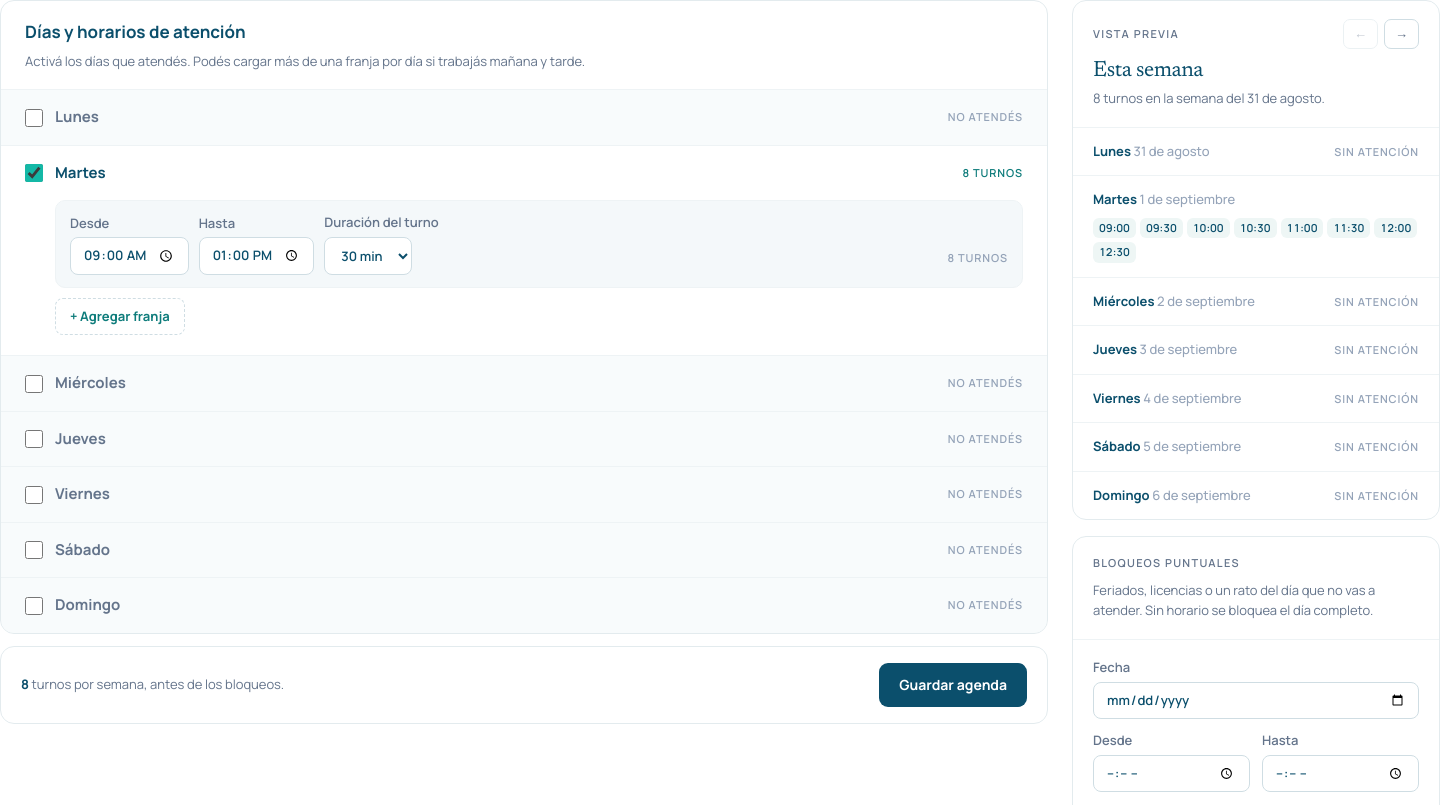
Scenario: WeeklyScheduleForm (ENG-53) › la vista previa refleja los cambios ANTES de guardar
The width and height of the screenshot is (1440, 805).
Expected: the checkbox labelled "Martes" is shown, [25,164,43,182]
Expected: the text "8 turnos en la semana del 31 de agosto." is shown, [1093,89,1325,107]
Se activa el lunes (agrega 09:00-13:00 de 30 min → 8 turnos más).
Click the checkbox labelled "Lunes" at point(34, 118), box [25,108,43,126]
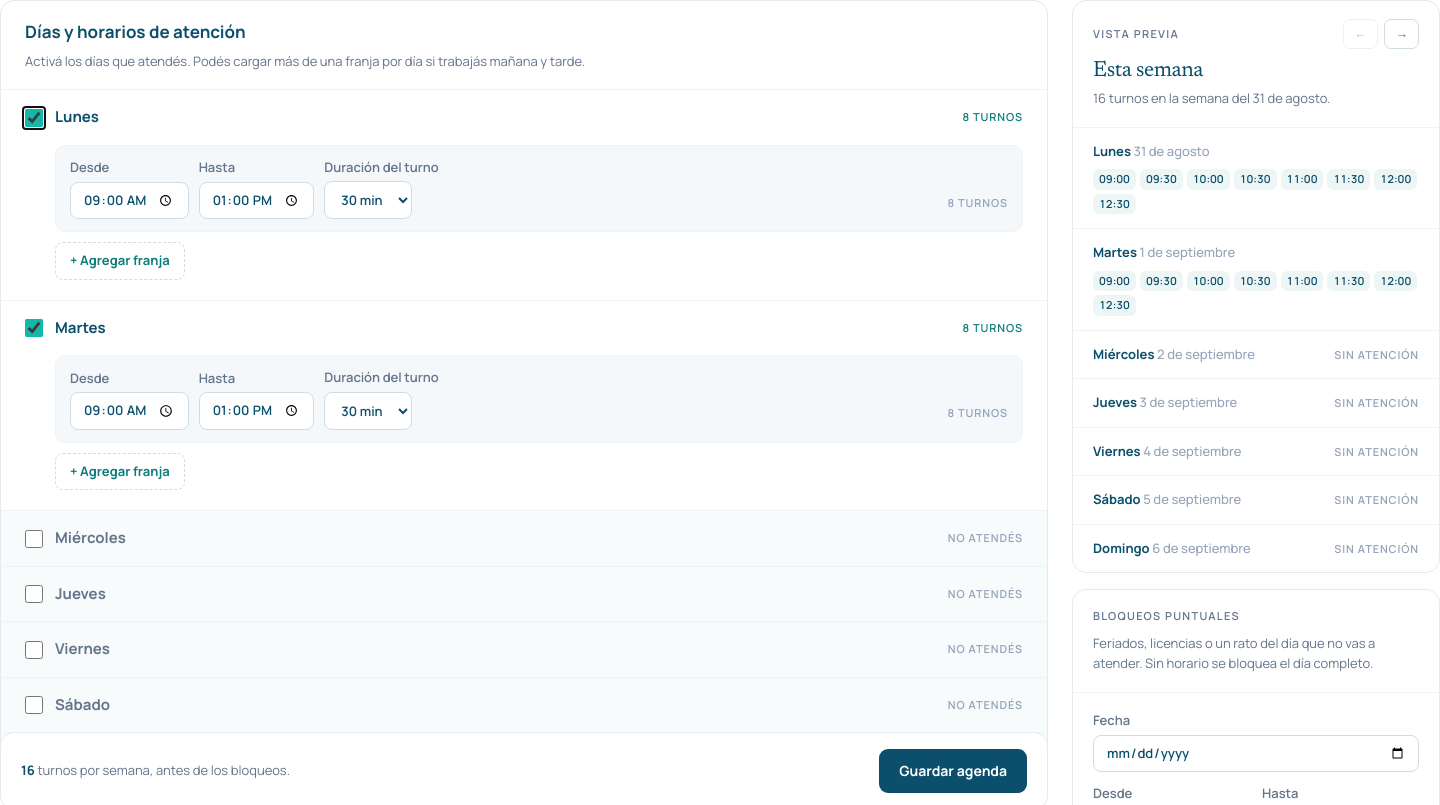
Now the text "16 turnos en la semana del 31 de agosto." is shown, box [1093,89,1330,107]
